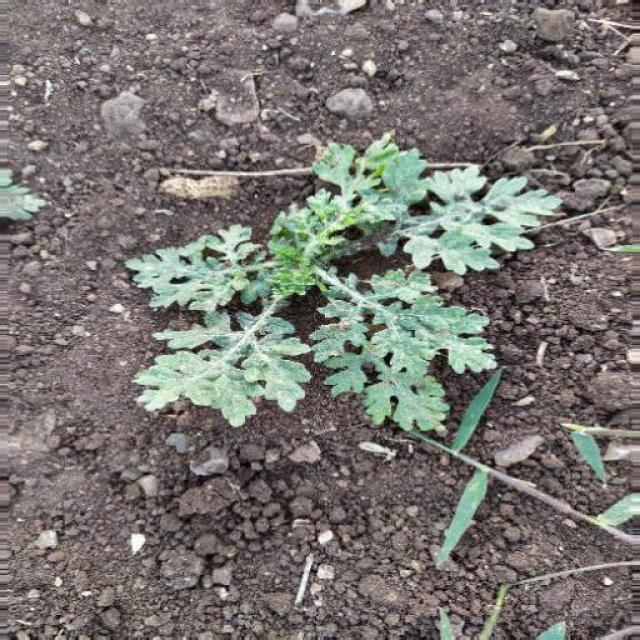weed: (126, 130, 565, 446)
